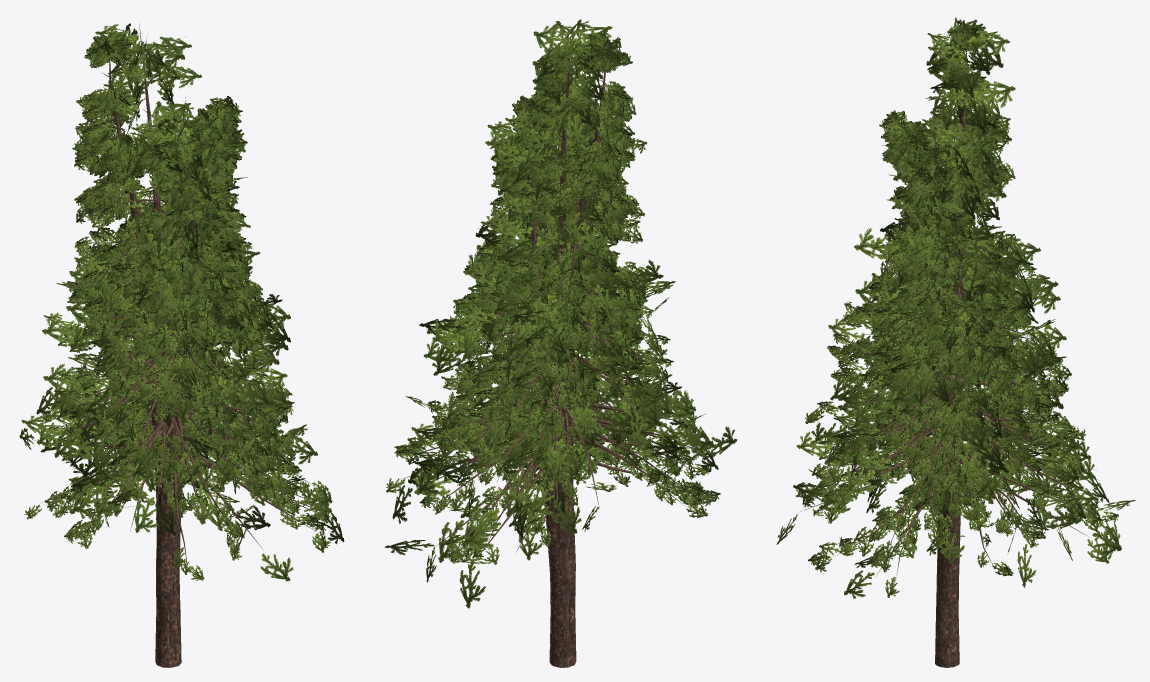
File: pines.glb
The picture shows the model from 3 angles, left to right: view 1: azimuth 30°, elevation 25°; view 2: azimuth 150°, elevation 25°; view 3: azimuth 270°, elevation 25°; orthographic projection. The views are drawn at different scales.
Visible parts, largest first — view 1: pine0_leaves, pine0_far_leaves, pine1_leaves, pine2_leaves, pine2_far_leaves, pine1_far_leaves, pine0_bark, pine1_bark, pine1_far_bark, pine2_bark, pine0_far_bark, pine2_far_bark; view 2: pine2_far_leaves, pine1_leaves, pine0_far_leaves, pine1_far_leaves, pine2_leaves, pine0_leaves, pine1_bark, pine0_bark, pine2_bark, pine2_far_bark, pine1_far_bark, pine0_far_bark; view 3: pine2_leaves, pine2_far_leaves, pine0_leaves, pine1_far_leaves, pine0_far_leaves, pine1_leaves, pine2_bark, pine1_bark, pine0_bark, pine2_far_bark, pine1_far_bark, pine0_far_bark.
Boxes of the visible parts, box(x1,y1,x2,y2) form: pine0_leaves: box(24, 96, 299, 560); pine0_far_leaves: box(19, 101, 317, 535); pine1_leaves: box(58, 32, 293, 459); pine2_leaves: box(64, 128, 332, 580); pine2_far_leaves: box(37, 114, 344, 581); pine1_far_leaves: box(56, 23, 290, 524); pine0_bark: box(41, 133, 289, 615); pine1_bark: box(69, 35, 276, 667); pine1_far_bark: box(88, 22, 246, 667); pine2_bark: box(74, 185, 324, 590); pine0_far_bark: box(35, 97, 292, 535); pine2_far_bark: box(53, 297, 317, 550); pine2_far_leaves: box(384, 115, 737, 608); pine1_leaves: box(453, 32, 673, 485); pine0_far_leaves: box(411, 73, 700, 531); pine1_far_leaves: box(413, 19, 696, 497); pine2_leaves: box(386, 93, 720, 564); pine0_leaves: box(407, 43, 710, 546); pine1_bark: box(463, 37, 648, 667); pine0_bark: box(424, 146, 696, 614); pine2_bark: box(402, 210, 706, 616); pine2_far_bark: box(436, 161, 710, 561); pine1_far_bark: box(447, 27, 672, 667); pine0_far_bark: box(435, 83, 706, 516); pine2_leaves: box(795, 157, 1118, 597); pine2_far_leaves: box(776, 146, 1135, 598); pine0_leaves: box(802, 110, 1065, 548); pine1_far_leaves: box(796, 30, 1060, 530); pine0_far_leaves: box(811, 119, 1094, 563); pine1_leaves: box(840, 17, 1081, 497); pine2_bark: box(817, 216, 1097, 618); pine1_bark: box(849, 20, 1057, 667); pine0_bark: box(811, 225, 1046, 599); pine2_far_bark: box(800, 169, 1100, 576); pine1_far_bark: box(829, 32, 1040, 665); pine0_far_bark: box(840, 112, 1066, 542).
Bounding box in the file's own units: 9.21 × 19.04 × 10.03.
Materials: 2 (2 with a texture image).
